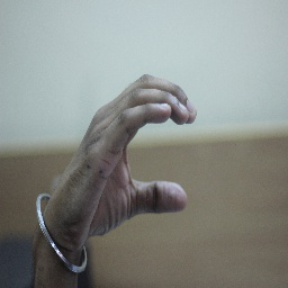C: (92, 73, 206, 219)
